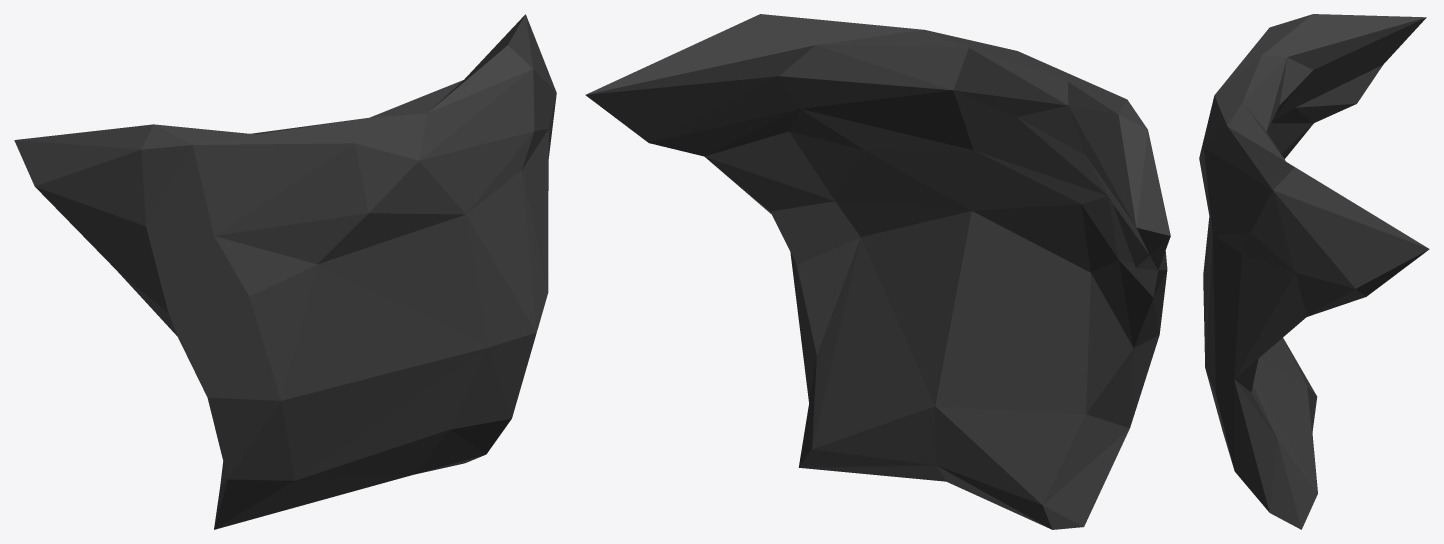
Rendered from m_apical_nostril_dilatator.glb.
3 views of the same model, side by side, from view 1: azimuth 30°, elevation 25°; view 2: azimuth 150°, elevation 25°; view 3: azimuth 270°, elevation 25° (orthographic). The views are drawn at different scales.
Parts seen in each view (by area): view 1: m_apical_nostril_dilatator; view 2: m_apical_nostril_dilatator; view 3: m_apical_nostril_dilatator.
Boxes of the visible parts, box(x1,y1,x2,y2) form: m_apical_nostril_dilatator: box(14, 14, 556, 529); m_apical_nostril_dilatator: box(585, 14, 1170, 529); m_apical_nostril_dilatator: box(1199, 14, 1429, 529).
Size of the model in its own units: 0.00107 by 0.000813 by 0.000447.
1 material, 1 textured.
